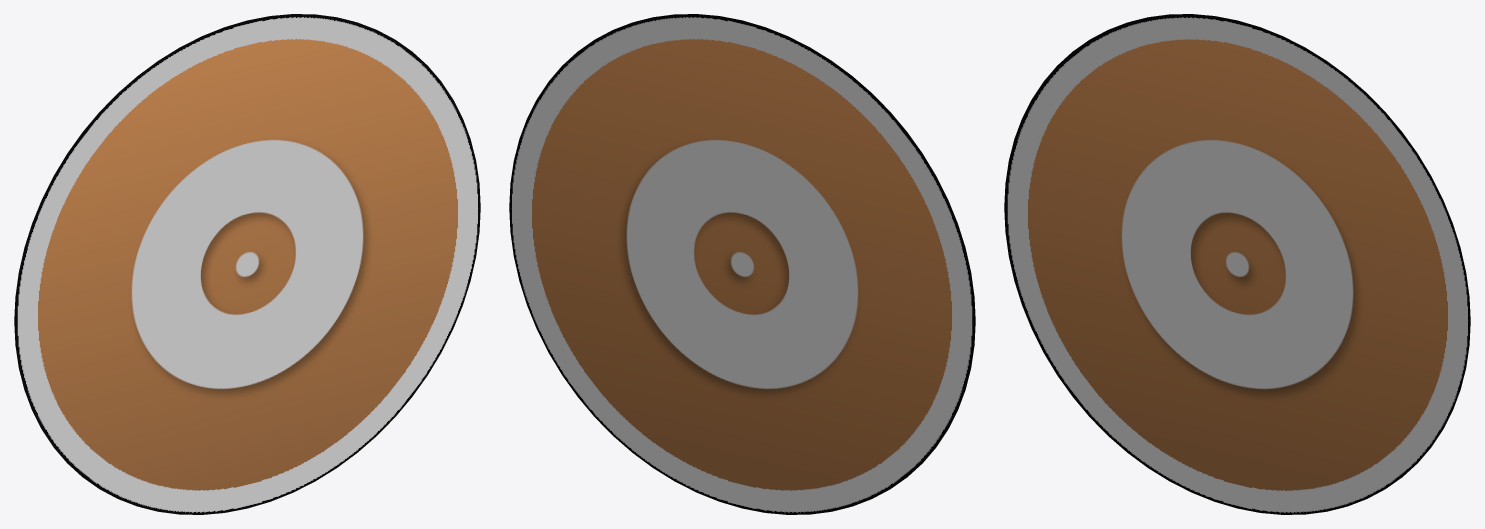
The model's file is frisbee.obj.
The picture shows the model from 3 angles, left to right: view 1: azimuth 30°, elevation 25°; view 2: azimuth 150°, elevation 25°; view 3: azimuth 330°, elevation 25°; orthographic projection.
Visible parts, largest first — view 1: badge; view 2: badge; view 3: badge.
Boxes of the visible parts, left/top/right/bottom form: badge: left=14, top=14, right=480, bottom=514; badge: left=509, top=14, right=975, bottom=514; badge: left=1004, top=14, right=1470, bottom=514.
Size of the model in its own units: 1 by 1 by 0.
1 material, 1 textured.
